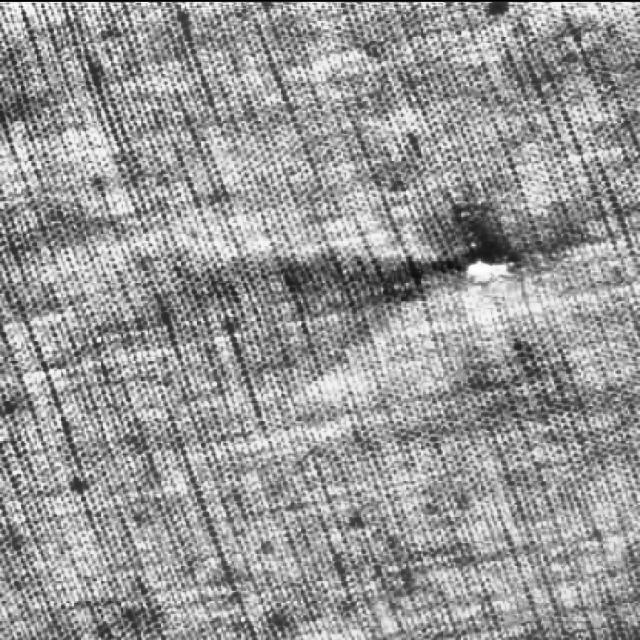hole: (454, 249, 524, 286)
